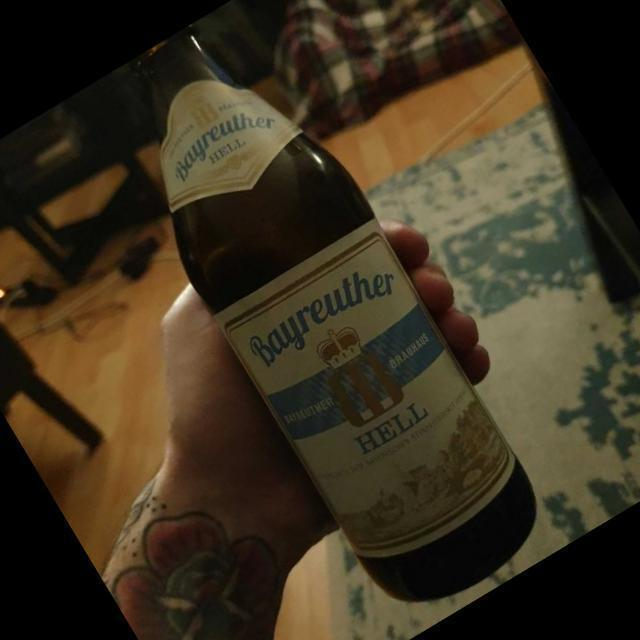BotolKaca: (132, 27, 538, 603)
